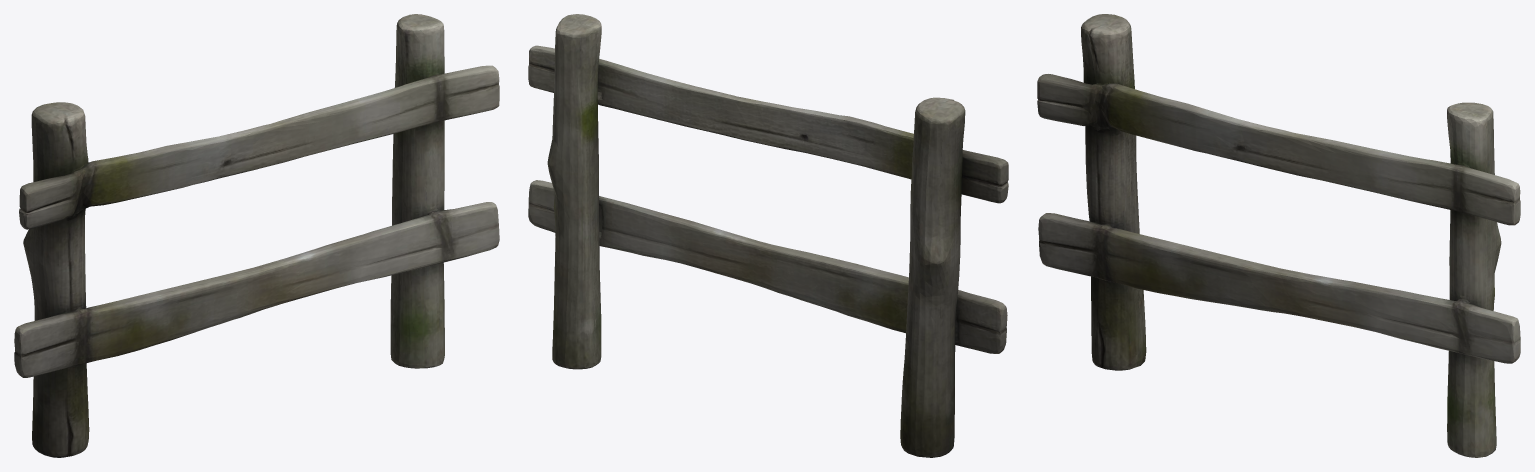
The model's file is fence.glb.
3 renders of one model, left to right at view 1: azimuth 30°, elevation 25°; view 2: azimuth 150°, elevation 25°; view 3: azimuth 330°, elevation 25°, orthographic.
Parts seen in each view (by area): view 1: world; view 2: world; view 3: world.
Boxes of the visible parts, x1,y1,x2,y2 form: world: [14, 14, 499, 457]; world: [528, 14, 1008, 457]; world: [1037, 14, 1520, 457].
Bounding box in the file's own units: 1 × 0.6835 × 0.1416.
1 material, 1 textured.
